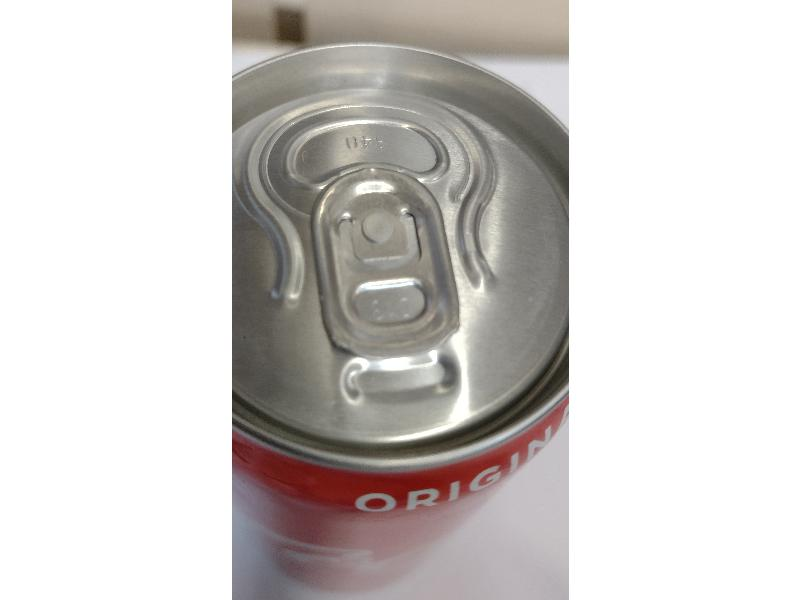can: (233, 41, 568, 496)
